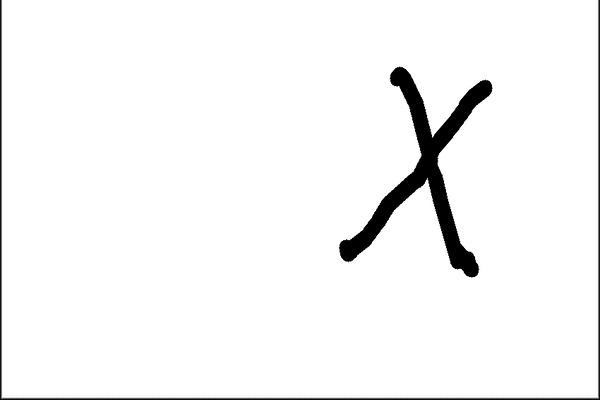X: (319, 45, 533, 290)
